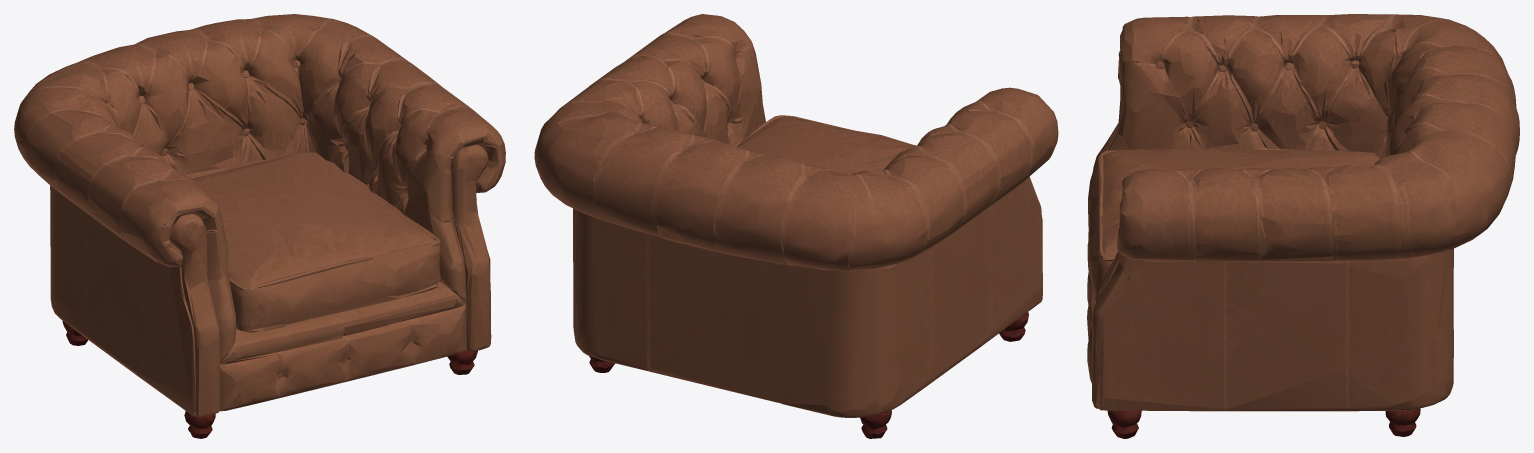
File: leather_armchair.glb
3 views of the same model, side by side, from view 1: azimuth 30°, elevation 25°; view 2: azimuth 150°, elevation 25°; view 3: azimuth 270°, elevation 25° (orthographic). The views are drawn at different scales.
Visible parts, largest first — view 1: Mesh_0; view 2: Mesh_0; view 3: Mesh_0.
Part boxes in pixels (bbox=[...]): Mesh_0: bbox=[14, 14, 505, 438]; Mesh_0: bbox=[534, 14, 1058, 438]; Mesh_0: bbox=[1087, 14, 1519, 438].
Size of the model in its own units: 1.49 by 1 by 1.39.
1 material, 1 textured.
